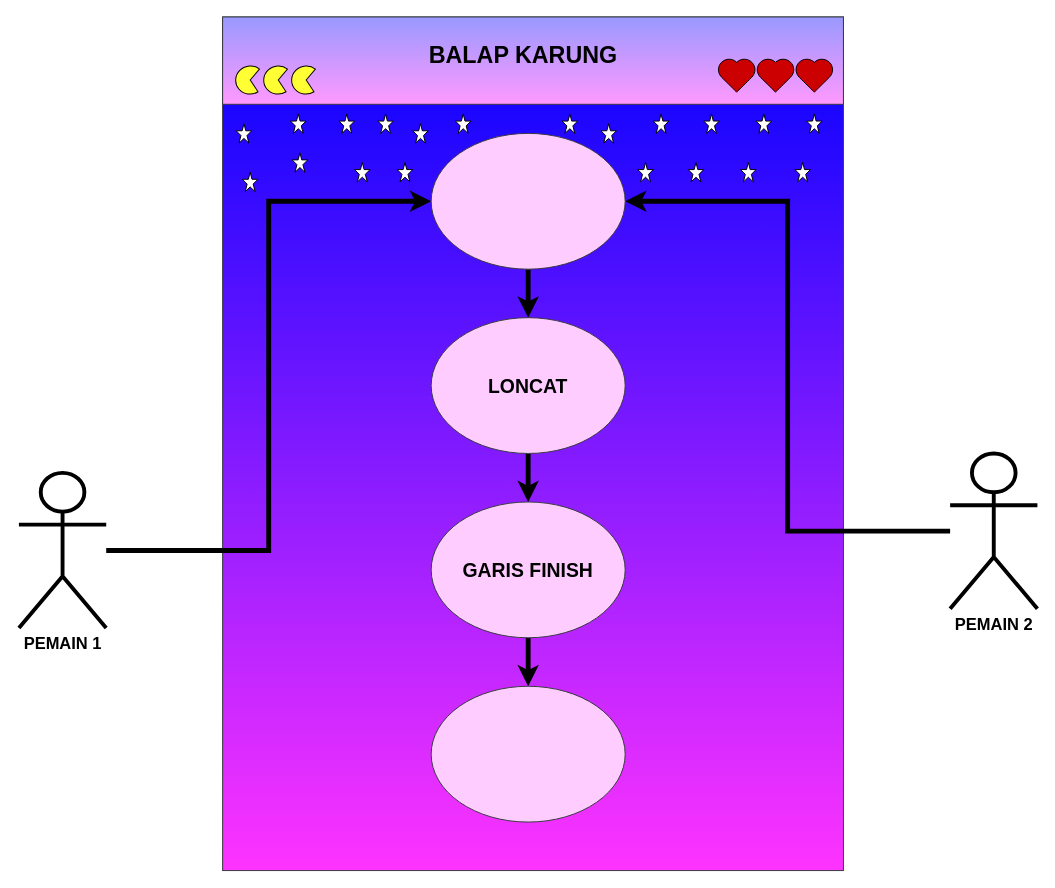
This 1055x888 diagram has some shape labels left out. Each missing label, with the box of its shape:
GARIS START: (430, 132, 625, 269)
WINNER!!!: (430, 685, 625, 822)
